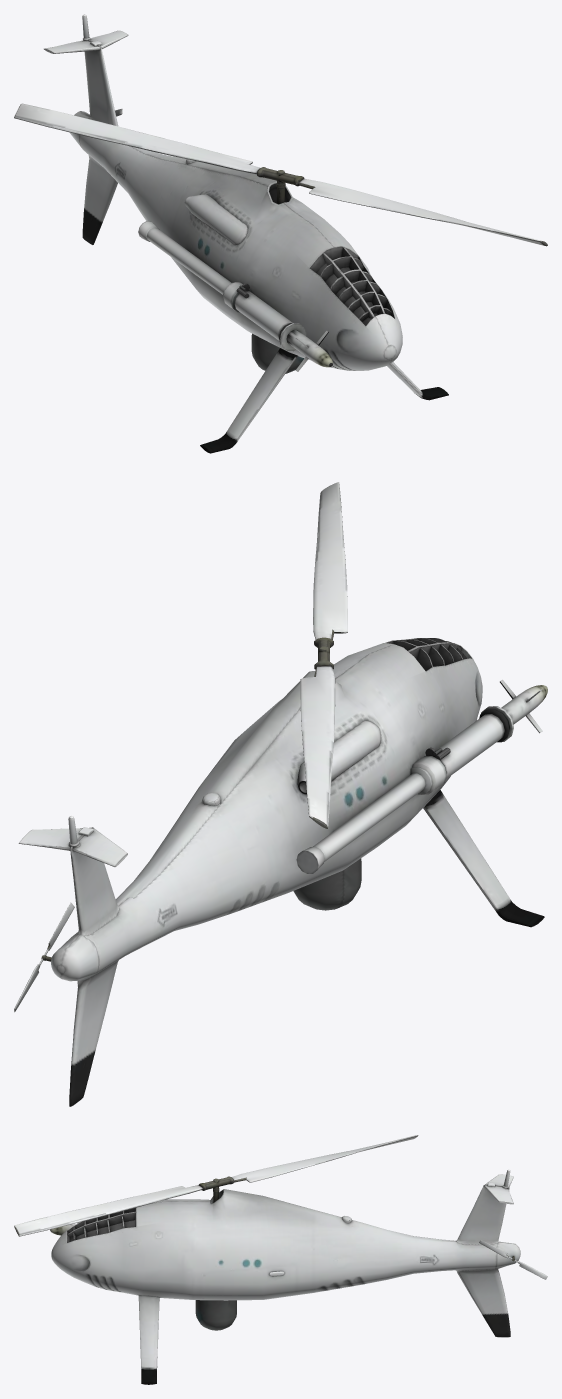
Rendered from drone_heli.glb.
3 views of the same model, one above another, from view 1: azimuth 30°, elevation 25°; view 2: azimuth 150°, elevation 25°; view 3: azimuth 270°, elevation 25° (orthographic). The views are drawn at different scales.
Parts seen in each view (by area): view 1: camcopters100_camcopters100_0, propellar_top_camcopters100_0; view 2: camcopters100_camcopters100_0, propellar_top_camcopters100_0; view 3: camcopters100_camcopters100_0, propellar_top_camcopters100_0, propellar_back_camcopters100_0.
Boxes of the visible parts, left/top/right/bottom form: camcopters100_camcopters100_0: left=44, top=14, right=448, bottom=453; propellar_top_camcopters100_0: left=14, top=103, right=547, bottom=246; camcopters100_camcopters100_0: left=18, top=638, right=547, bottom=1106; propellar_top_camcopters100_0: left=300, top=482, right=347, bottom=828; camcopters100_camcopters100_0: left=50, top=1169, right=520, bottom=1384; propellar_top_camcopters100_0: left=14, top=1135, right=418, bottom=1236; propellar_back_camcopters100_0: left=479, top=1240, right=547, bottom=1279.
Size of the model in its own units: 1.48 by 1.21 by 3.4.
1 material, 1 textured.
